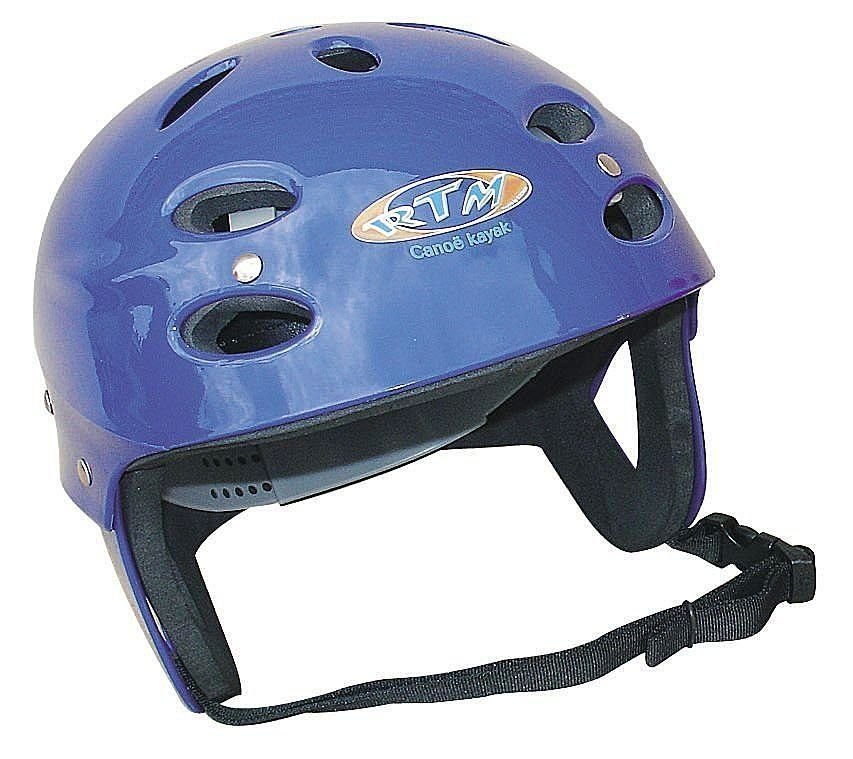helmet: (23, 49, 727, 497)
